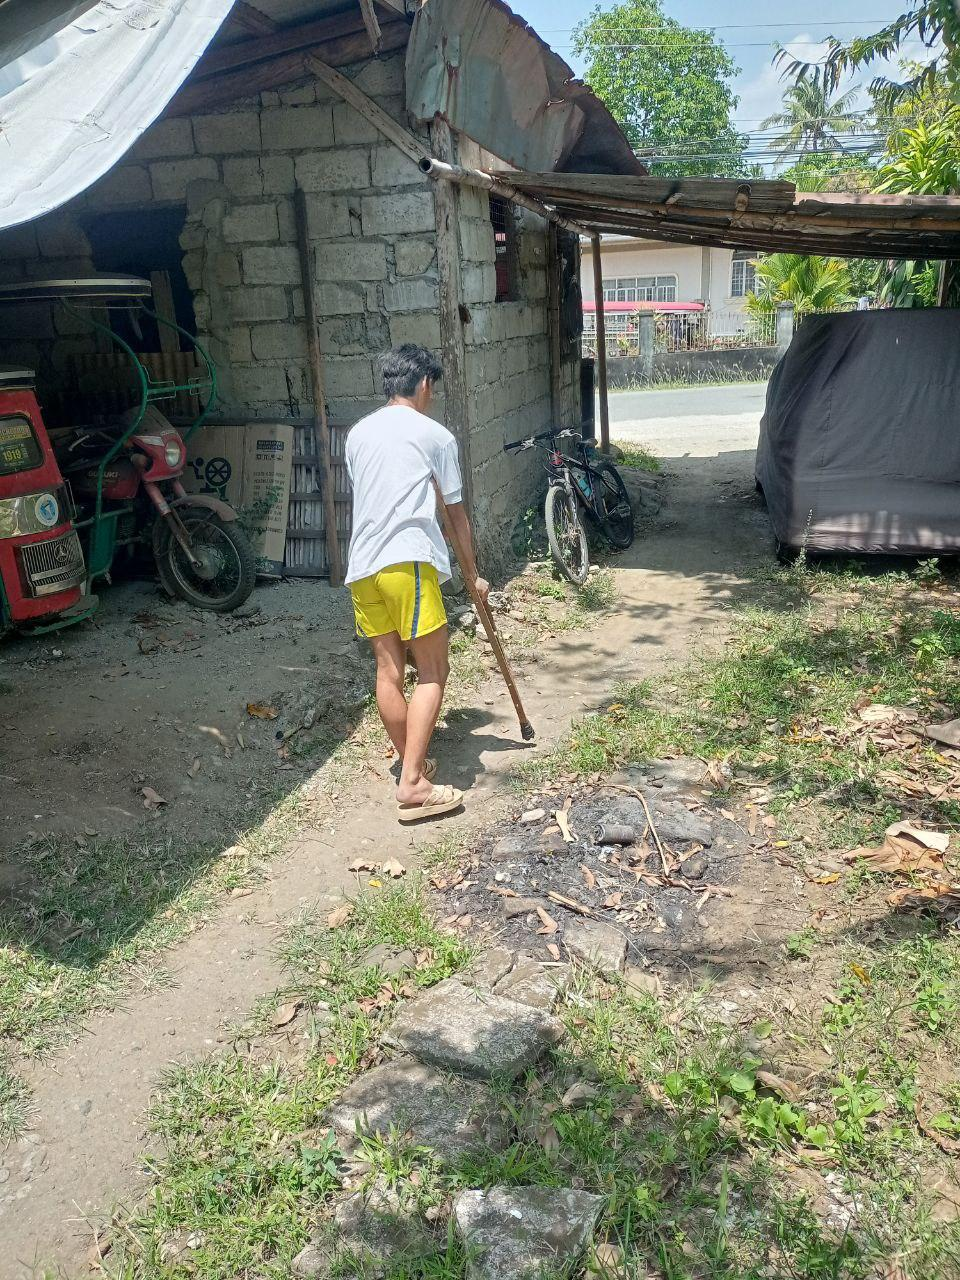crutches: (338, 336, 550, 830)
